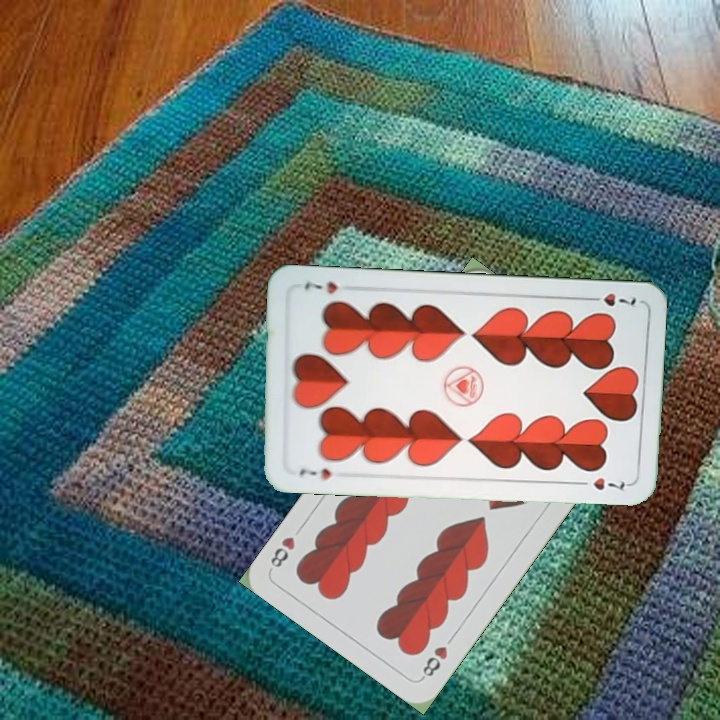H7: (582, 289, 639, 309), (295, 464, 334, 482)
H8: (417, 642, 451, 682)
